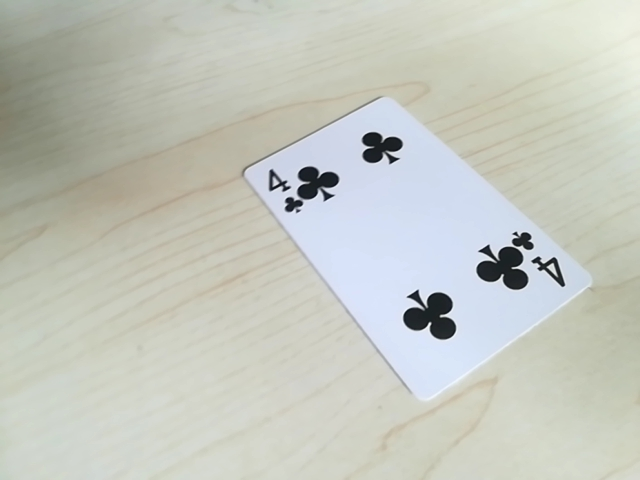mh 4: (501, 227, 570, 297), (261, 159, 314, 215)
